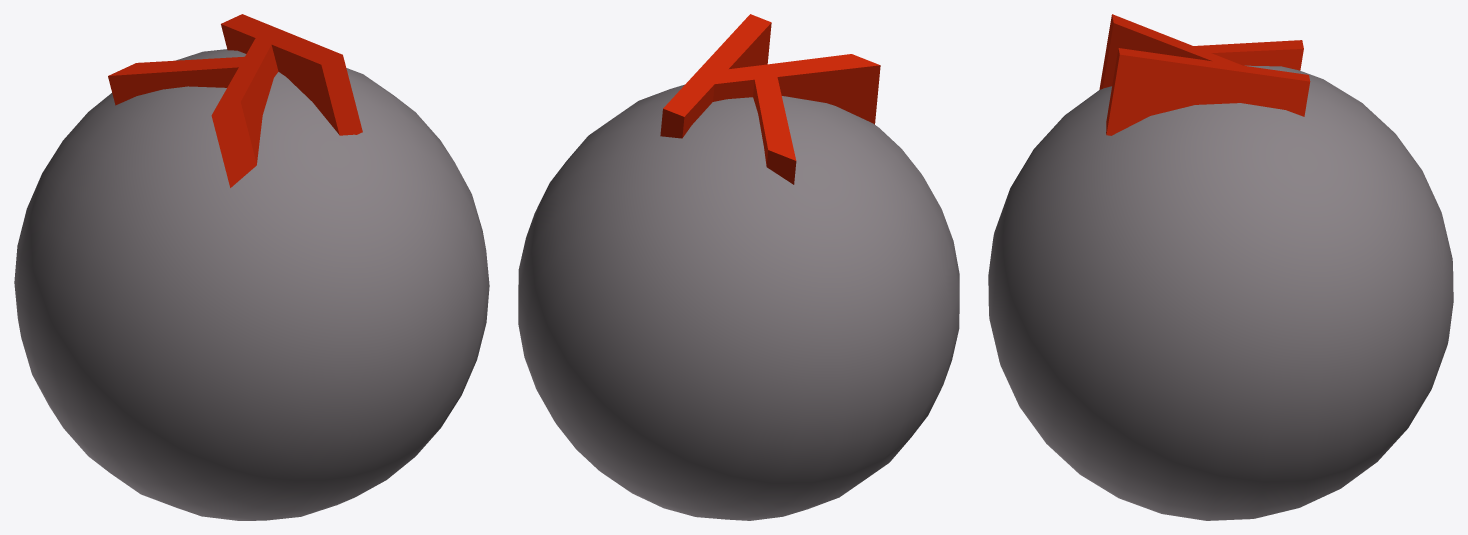
The picture shows the model from 3 angles, left to right: view 1: azimuth 30°, elevation 25°; view 2: azimuth 150°, elevation 25°; view 3: azimuth 270°, elevation 25°; orthographic projection. The views are drawn at different scales.
Parts seen in each view (by area): view 1: K; view 2: K; view 3: K.
Part boxes in pixels (<box>): K: <box>14,14,489,520</box>; K: <box>518,14,959,520</box>; K: <box>988,14,1453,520</box>.
Size of the model in its own units: 38.69 by 42.46 by 38.6.
